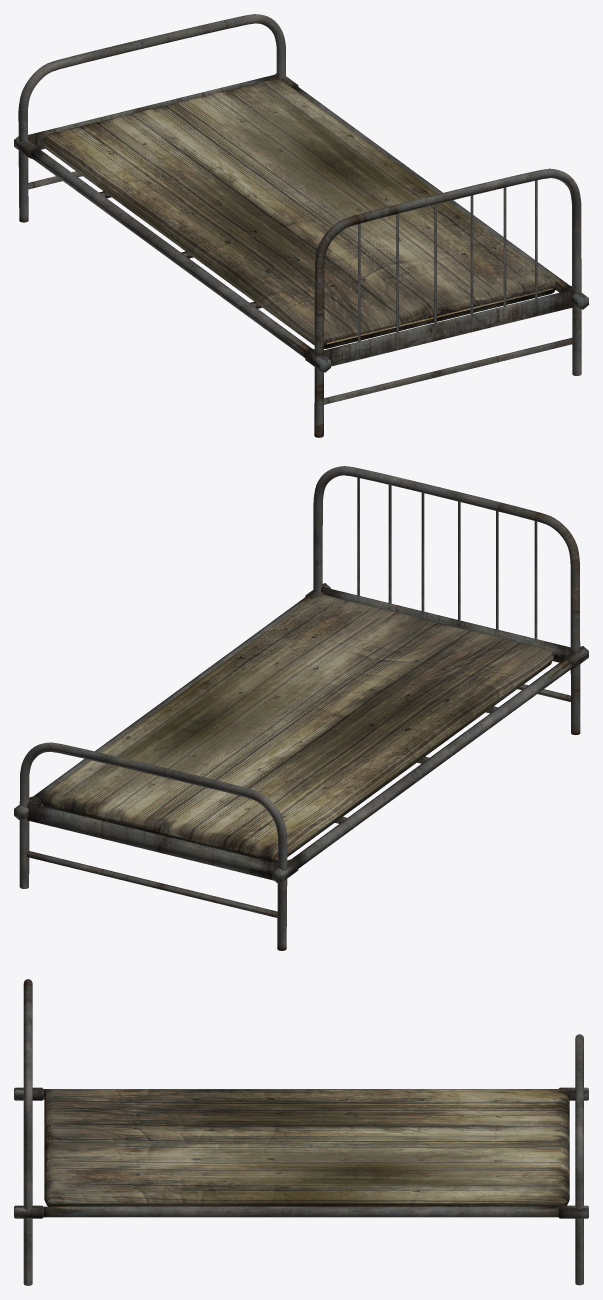
File: metalbed.fbx
3 views of the same model, one above another, from view 1: azimuth 30°, elevation 25°; view 2: azimuth 150°, elevation 25°; view 3: azimuth 270°, elevation 25° (orthographic). The views are drawn at different scales.
Visible parts, largest first — view 1: Object_129; view 2: Object_129; view 3: Object_129.
Part boxes in pixels (x1,y1,x2,y2): Object_129: (14, 14, 588, 437); Object_129: (14, 466, 588, 950); Object_129: (14, 979, 588, 1285).
Size of the model in its own units: 410 by 310 by 809.
